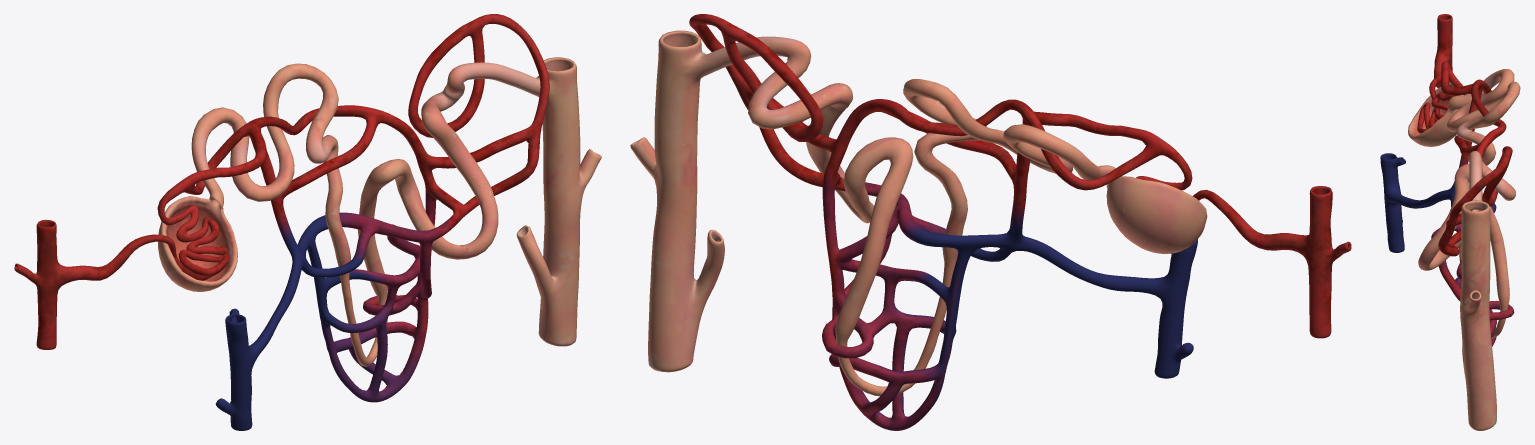
Rendered from Nephron.glb.
The picture shows the model from 3 angles, left to right: view 1: azimuth 30°, elevation 25°; view 2: azimuth 150°, elevation 25°; view 3: azimuth 270°, elevation 25°; orthographic projection. The views are drawn at different scales.
Parts seen in each view (by area): view 1: Blood_supply_Blood_supply_mat_0; view 2: Blood_supply_Blood_supply_mat_0; view 3: Blood_supply_Blood_supply_mat_0.
Part boxes in pixels (x1,y1,x2,y2): Blood_supply_Blood_supply_mat_0: (14,14,601,430); Blood_supply_Blood_supply_mat_0: (630,14,1351,430); Blood_supply_Blood_supply_mat_0: (1380,14,1520,430).
Size of the model in its own units: 3.4 by 1.83 by 0.8833.
2 materials, 2 textured.
